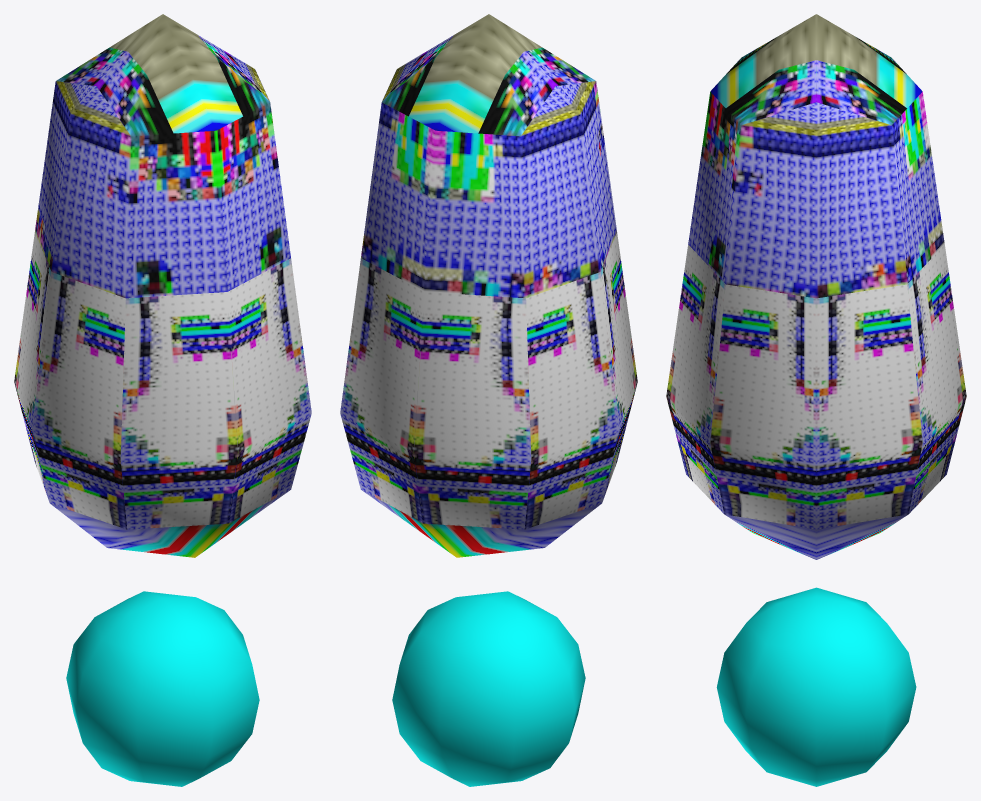
The model's file is cloth_kabuto_model.glb.
3 renders of one model, left to right at view 1: azimuth 30°, elevation 25°; view 2: azimuth 150°, elevation 25°; view 3: azimuth 270°, elevation 25°, orthographic.
Visible parts, largest first — view 1: cloth_kabuto_model; view 2: cloth_kabuto_model; view 3: cloth_kabuto_model.
Boxes of the visible parts, <box> form: cloth_kabuto_model: <box>14,14,311,786</box>; cloth_kabuto_model: <box>340,14,637,786</box>; cloth_kabuto_model: <box>666,14,966,786</box>.
Size of the model in its own units: 30.77 by 86.34 by 30.79.
Materials: 1 (1 with a texture image).
